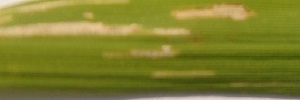RiceBacterialBlight: (2, 22, 190, 59), (171, 2, 260, 24)
